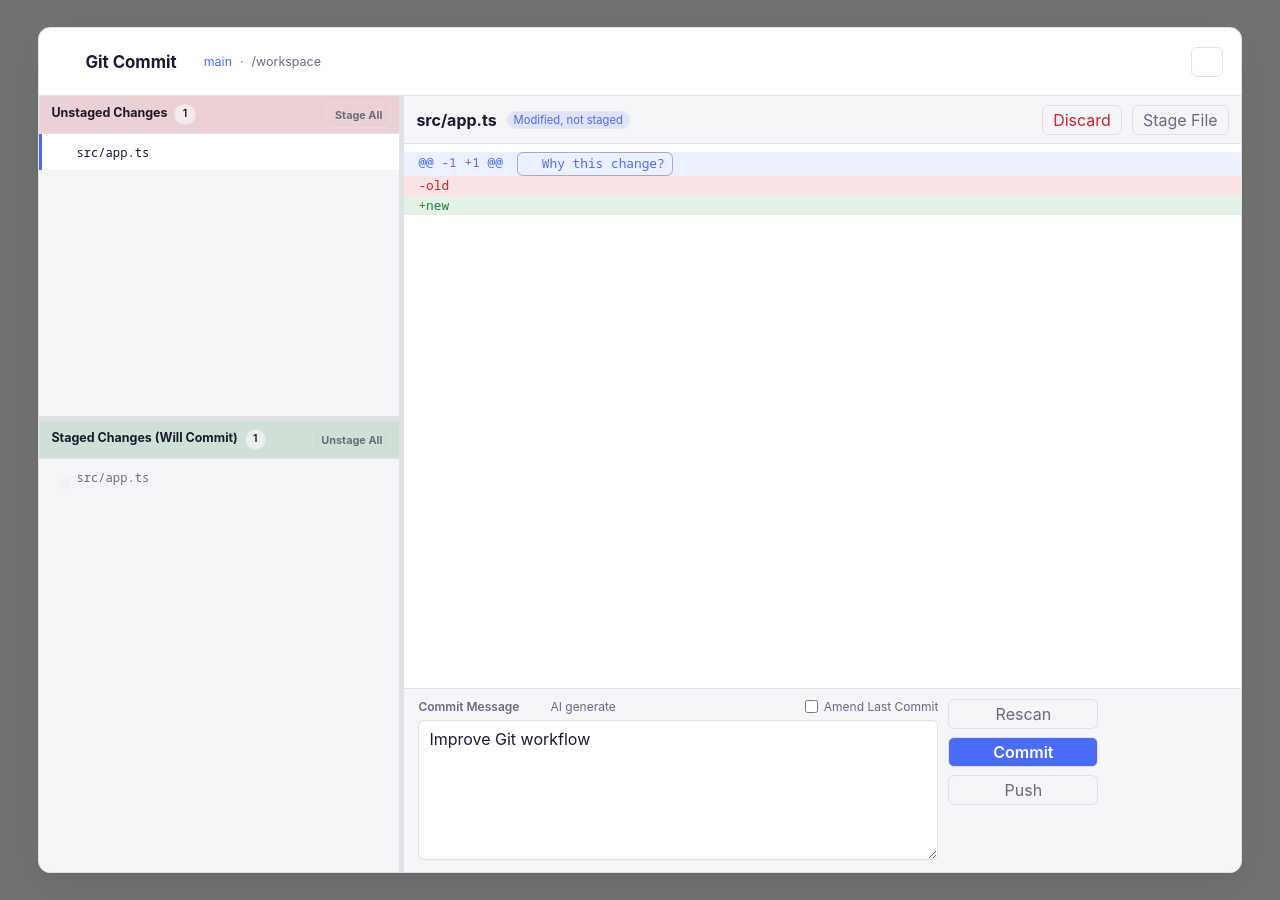
Test: GitChangesView › uses the session title as the commit message and restores it after viewing amend
Check: the text box with id "git-changes-commit-message" holds "Improve Git workflow", box x1=418 y1=720 x2=938 y2=860
Click the checkbox labelled "Amend Last Commit": (811, 706) x1=805 y1=700 x2=818 y2=713
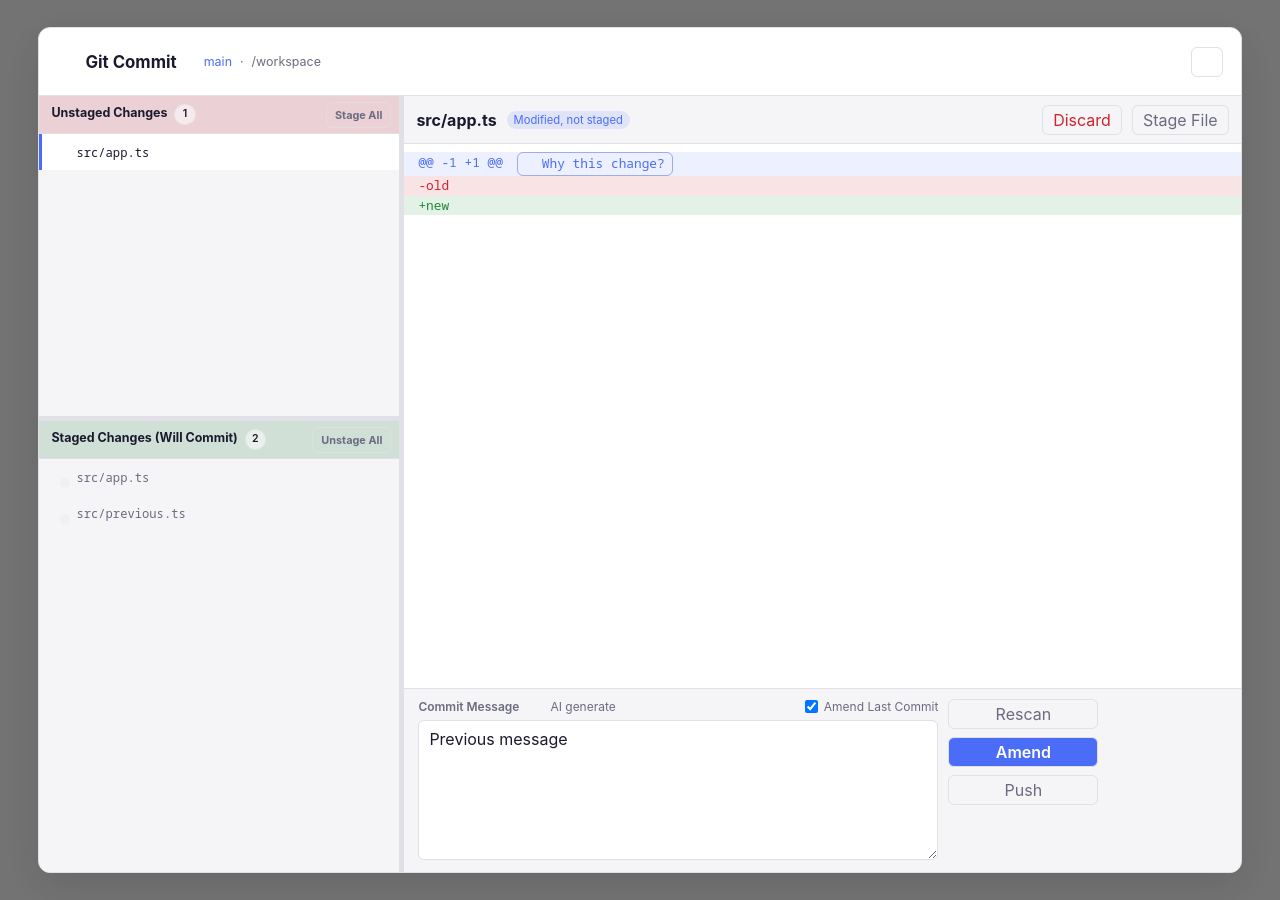
Check: the text box with id "git-changes-commit-message" holds "Previous message", box x1=418 y1=720 x2=938 y2=860
Click the button with class "git-change-file" below "Staged Changes (Will Commit)": (131, 513) x1=39 y1=495 x2=399 y2=531
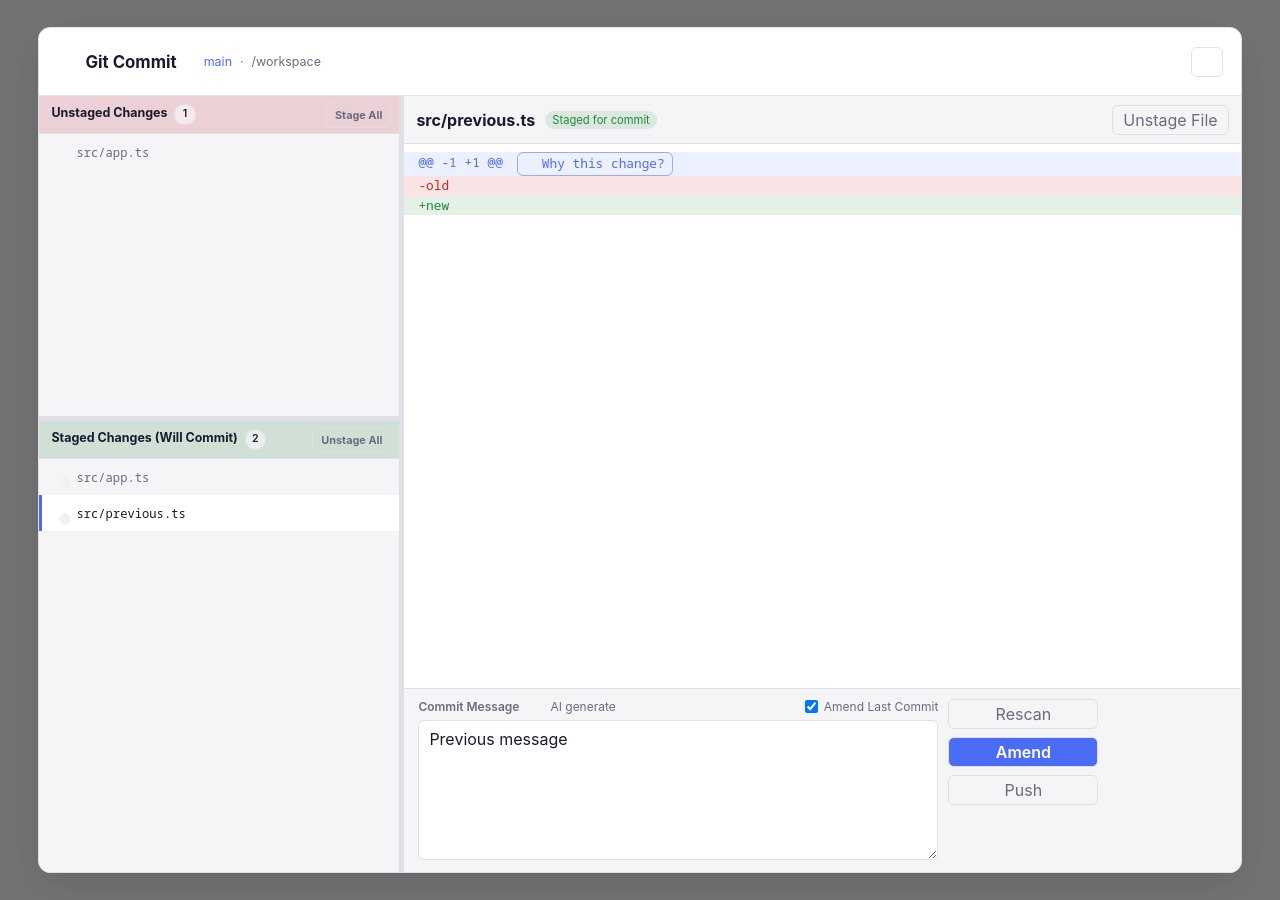
Click the checkbox labelled "Amend Last Commit": (811, 706) x1=805 y1=700 x2=818 y2=713
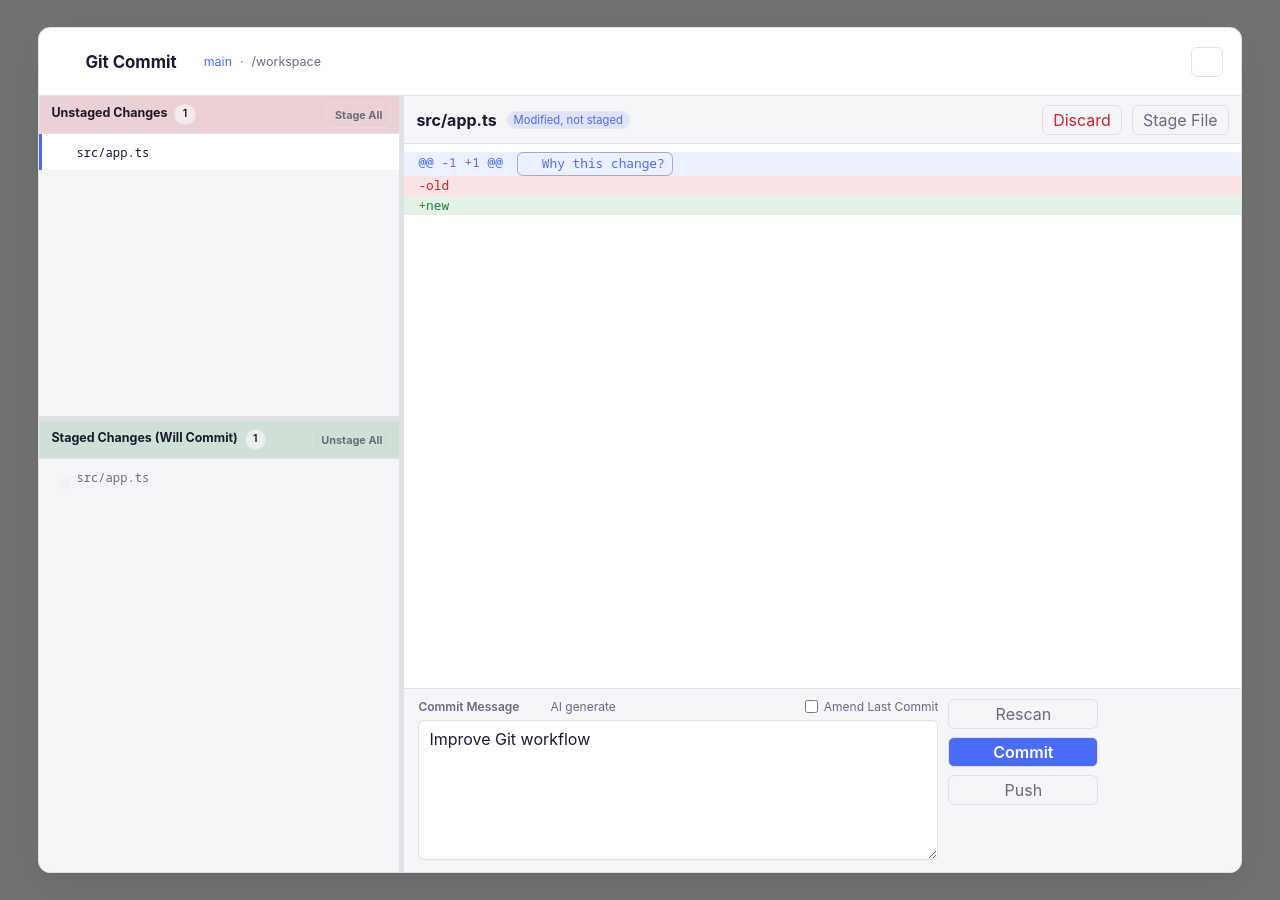
Check: the text box with id "git-changes-commit-message" holds "Improve Git workflow", box x1=418 y1=720 x2=938 y2=860
Click the checkbox labelled "Amend Last Commit": (811, 706) x1=805 y1=700 x2=818 y2=713
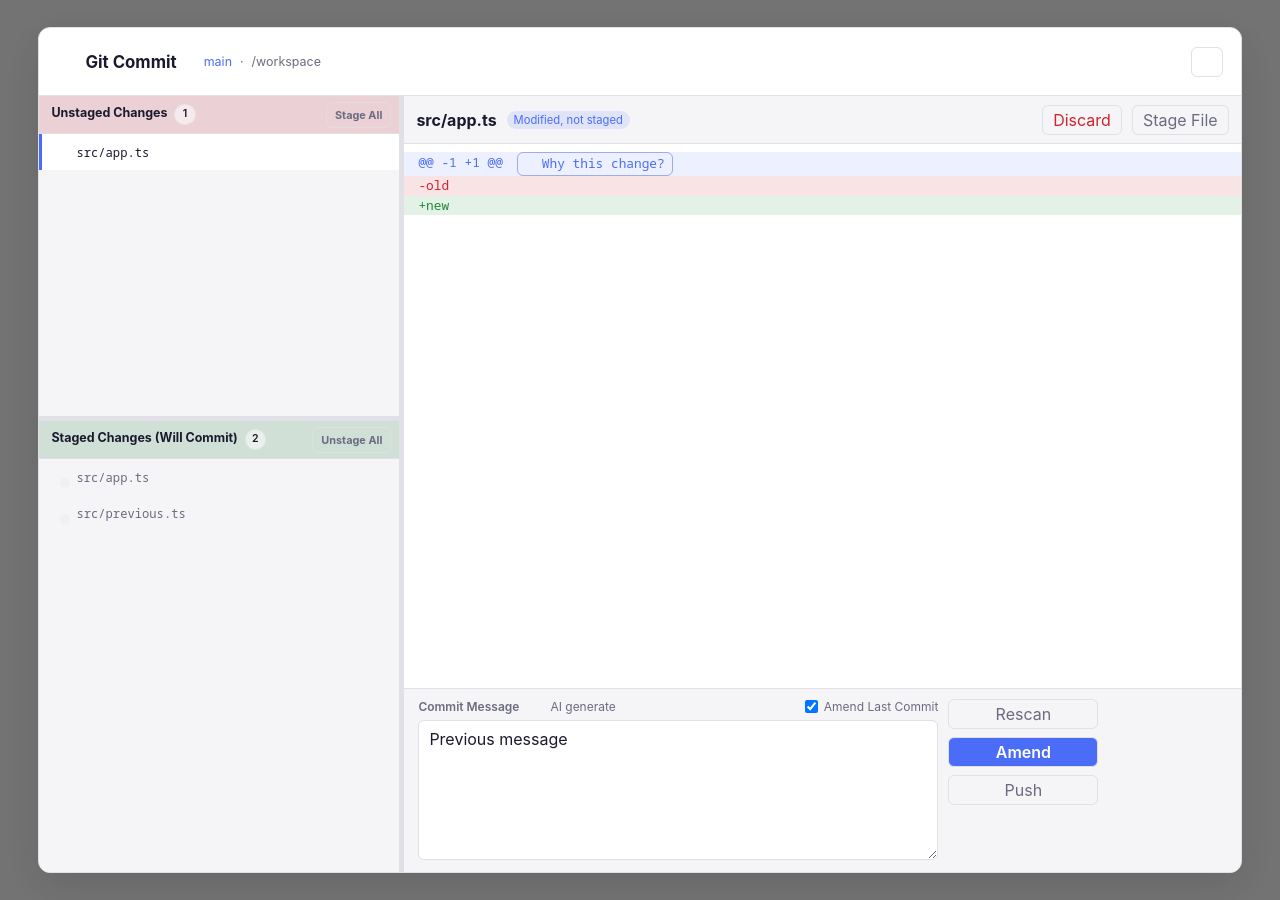
Click the button "Amend": (1023, 752) x1=948 y1=737 x2=1098 y2=767
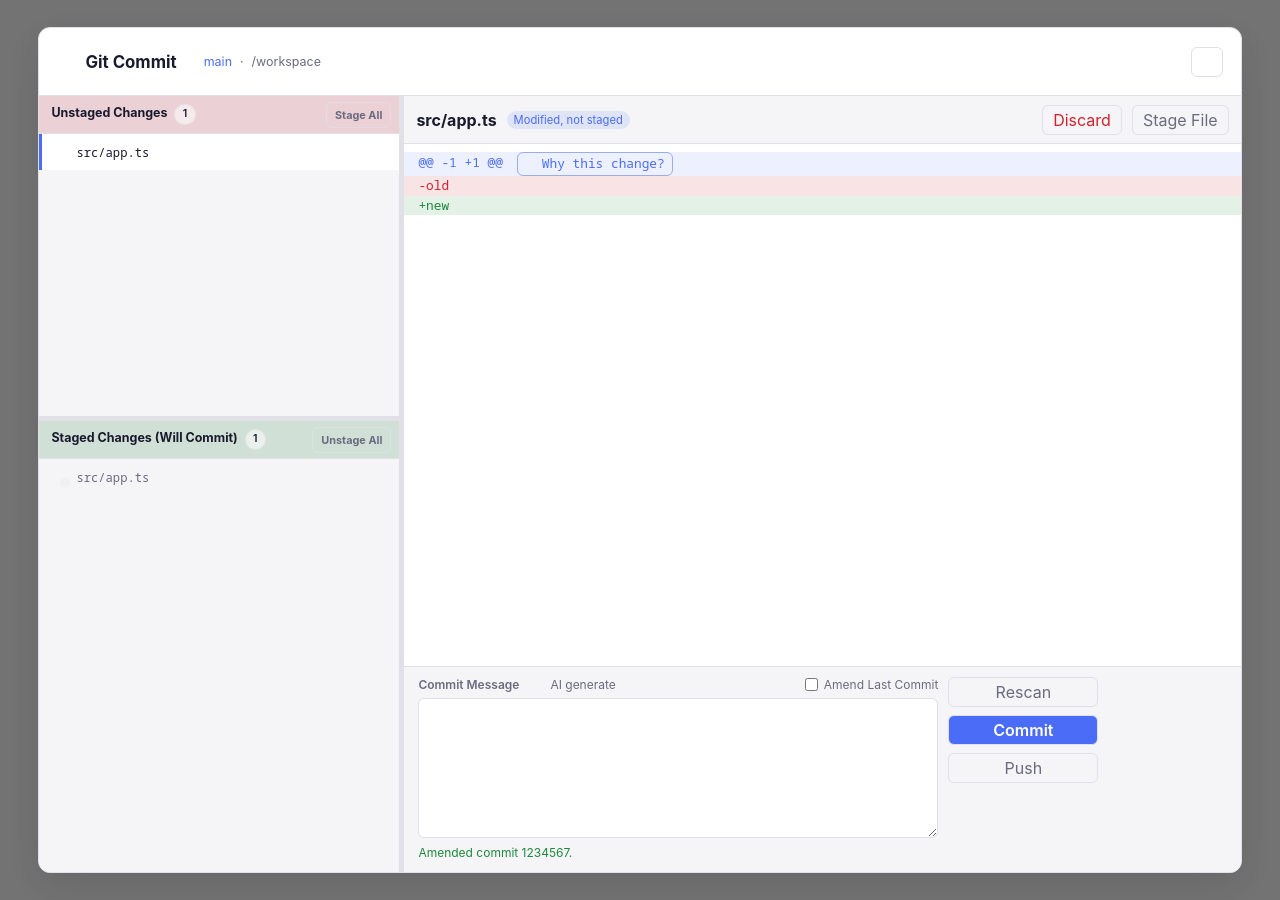
Check: the text "Amended commit 1234567." is shown, box x1=418 y1=845 x2=572 y2=860
